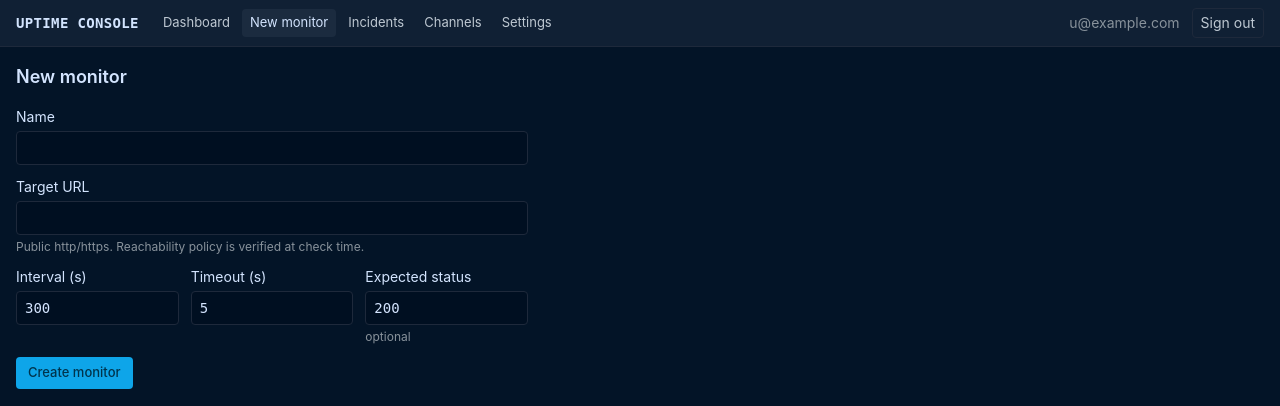
monitor forms › rejects timeout > interval and bad URL client-side
The width and height of the screenshot is (1280, 406).
Type "x" into the field labelled "Name". click: (272, 148)
box: [16,131,528,165]
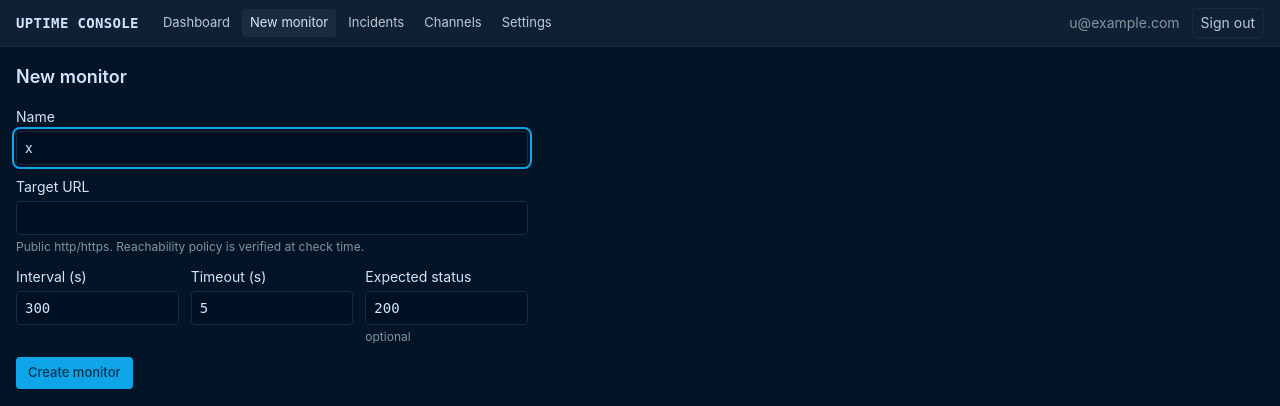
Type "notaurl" into the field labelled "Target URL". click: (272, 218)
box: [16,201,528,235]
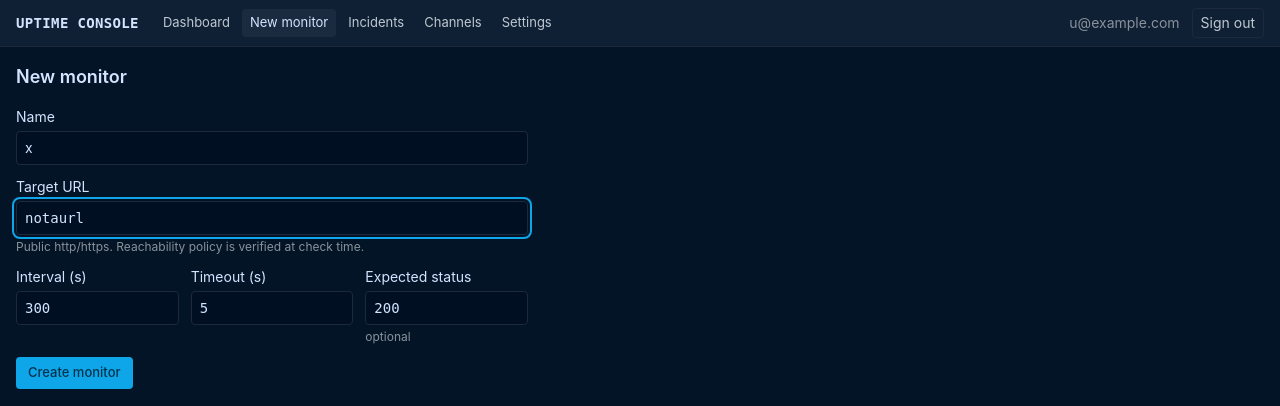
Replace the text in the number field labelled "Interval (s)" with "60". click: (97, 308)
box: [16,291,179,325]
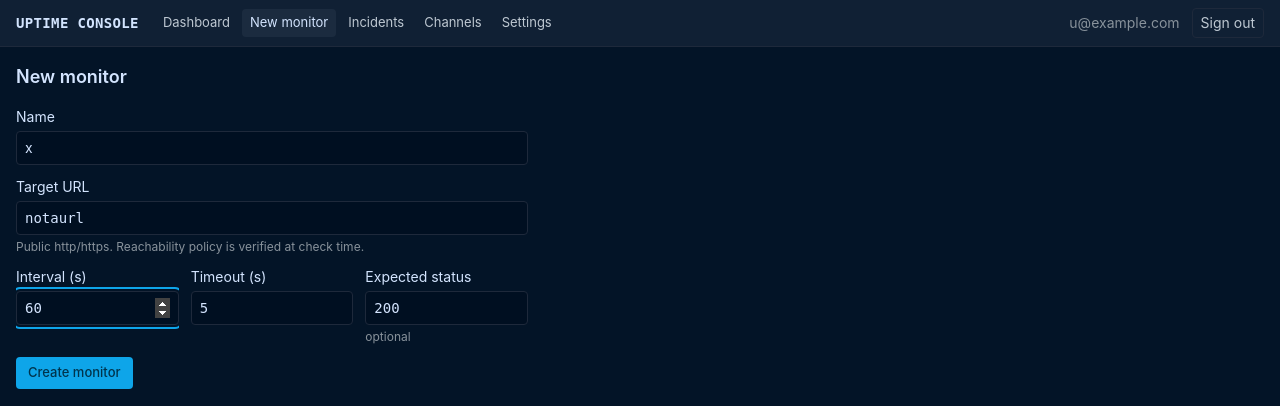
Replace the text in the number field labelled "Timeout (s)" with "90". click: (272, 308)
box: [191,291,353,325]
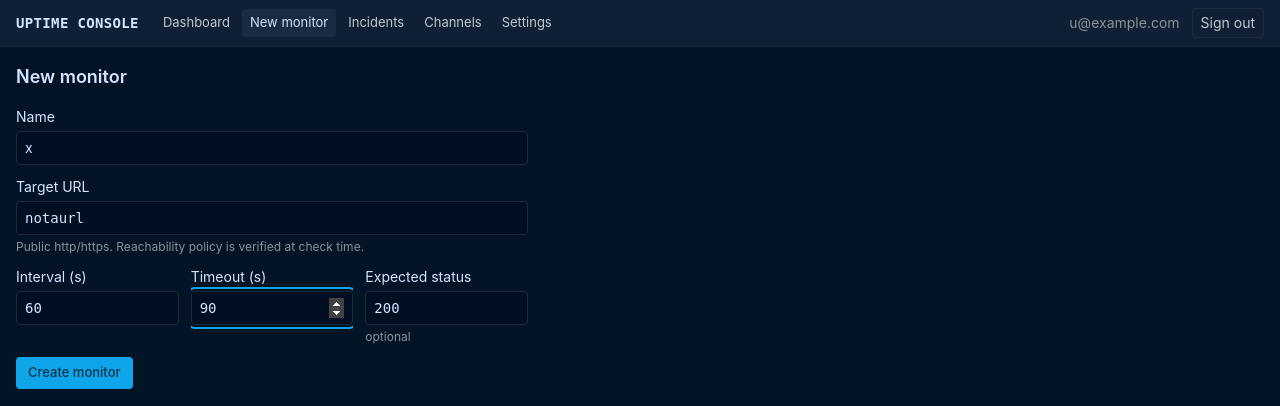
Click the button "Create monitor". click: (74, 373)
box: [16,357,132,388]
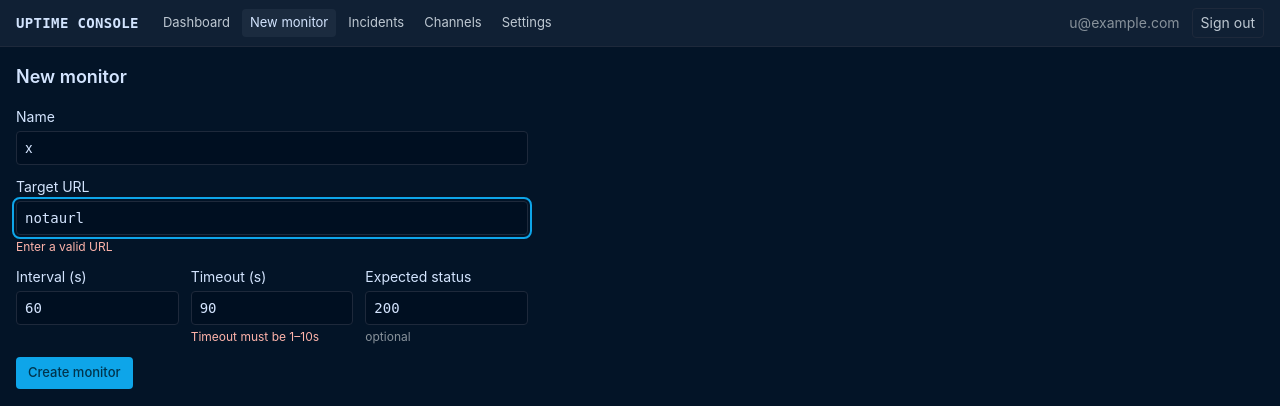
Expected: the text "Enter a valid URL" is shown, [16,239,112,254]
Expected: the text "Timeout must be 1–10s" is shown, [191,329,319,344]
